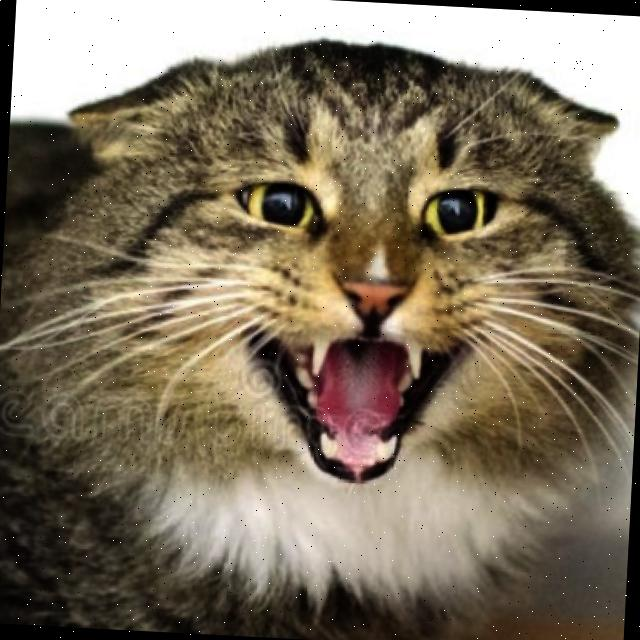Angry: (166, 128, 552, 512)
